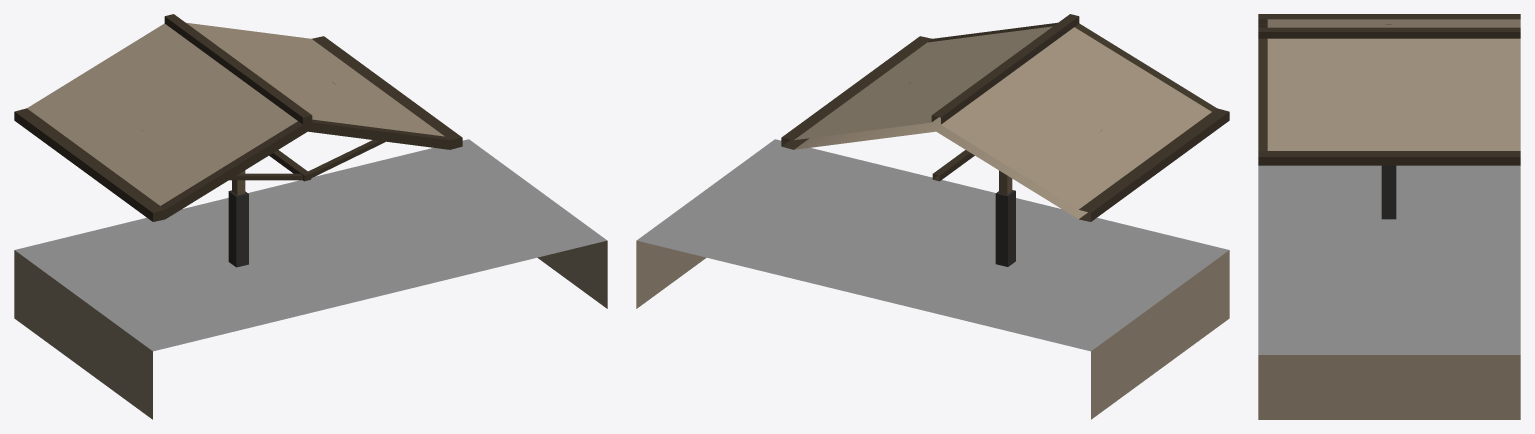
File: env_platform_section_rear.fbx
The picture shows the model from 3 angles, left to right: view 1: azimuth 30°, elevation 25°; view 2: azimuth 150°, elevation 25°; view 3: azimuth 270°, elevation 25°; orthographic projection. The views are drawn at different scales.
Visible parts, largest first — view 1: platform, roof, beam, support5; view 2: platform, roof, beam; view 3: platform, roof, beam.
Boxes of the visible parts, box(x1,y1,x2,y2) form: platform: box(14, 139, 607, 419); roof: box(14, 14, 462, 221); beam: box(228, 170, 248, 267); support5: box(208, 131, 402, 180); platform: box(636, 139, 1229, 419); roof: box(781, 14, 1229, 221); beam: box(995, 170, 1015, 266); platform: box(1258, 165, 1520, 419); roof: box(1258, 14, 1520, 165); beam: box(1381, 165, 1396, 219).
Bounding box in the file's own units: 1515 × 846 × 800.
Materials: 1 (1 with a texture image).
